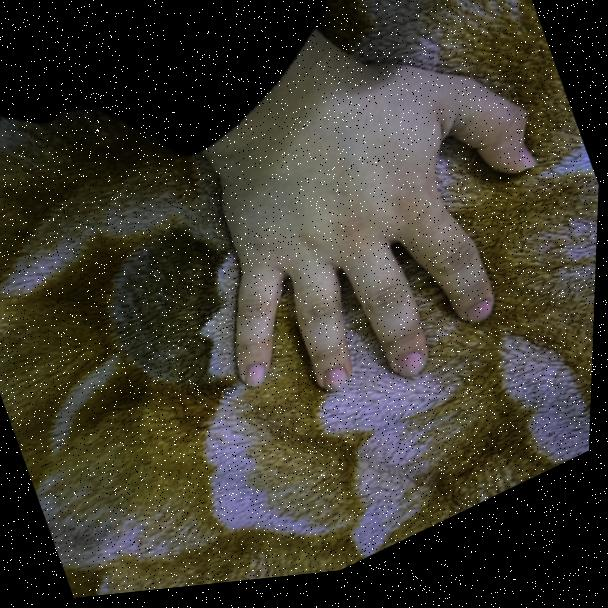five: (152, 7, 599, 465)
